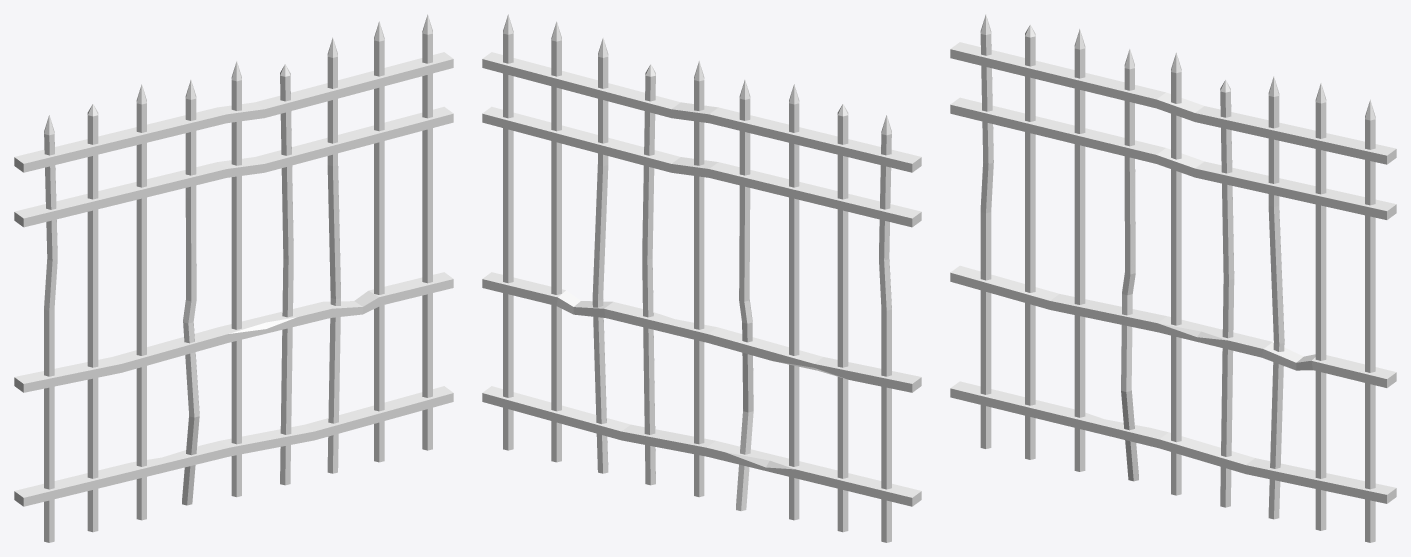
The model's file is Fence Gate .fbx.
3 renders of one model, left to right at view 1: azimuth 30°, elevation 25°; view 2: azimuth 150°, elevation 25°; view 3: azimuth 330°, elevation 25°, orthographic.
Parts seen in each view (by area): view 1: Metal Fence; view 2: Metal Fence; view 3: Metal Fence.
Part boxes in pixels (x1,y1,x2,y2): Metal Fence: [14, 14, 453, 542]; Metal Fence: [482, 14, 921, 542]; Metal Fence: [950, 14, 1396, 542].
Bounding box in the file's own units: 1115 × 1087 × 56.5.
Materials: 1 (1 with a texture image).
